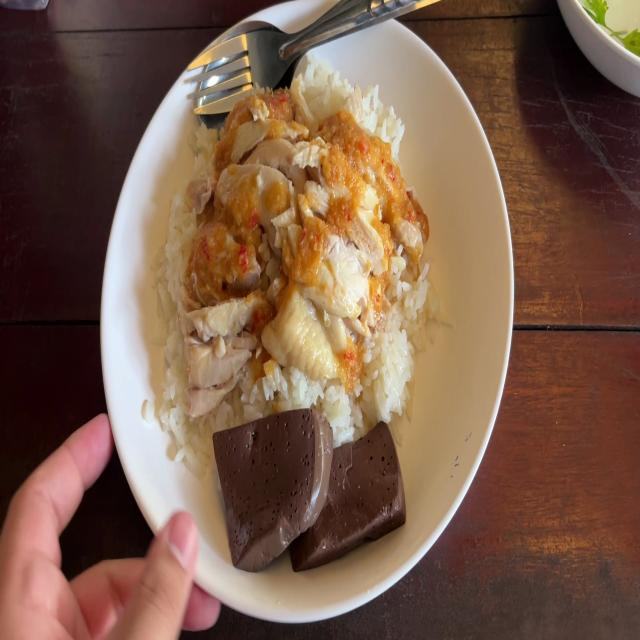chicken_rice: (197, 84, 379, 390)
noodle: (213, 409, 409, 571)
